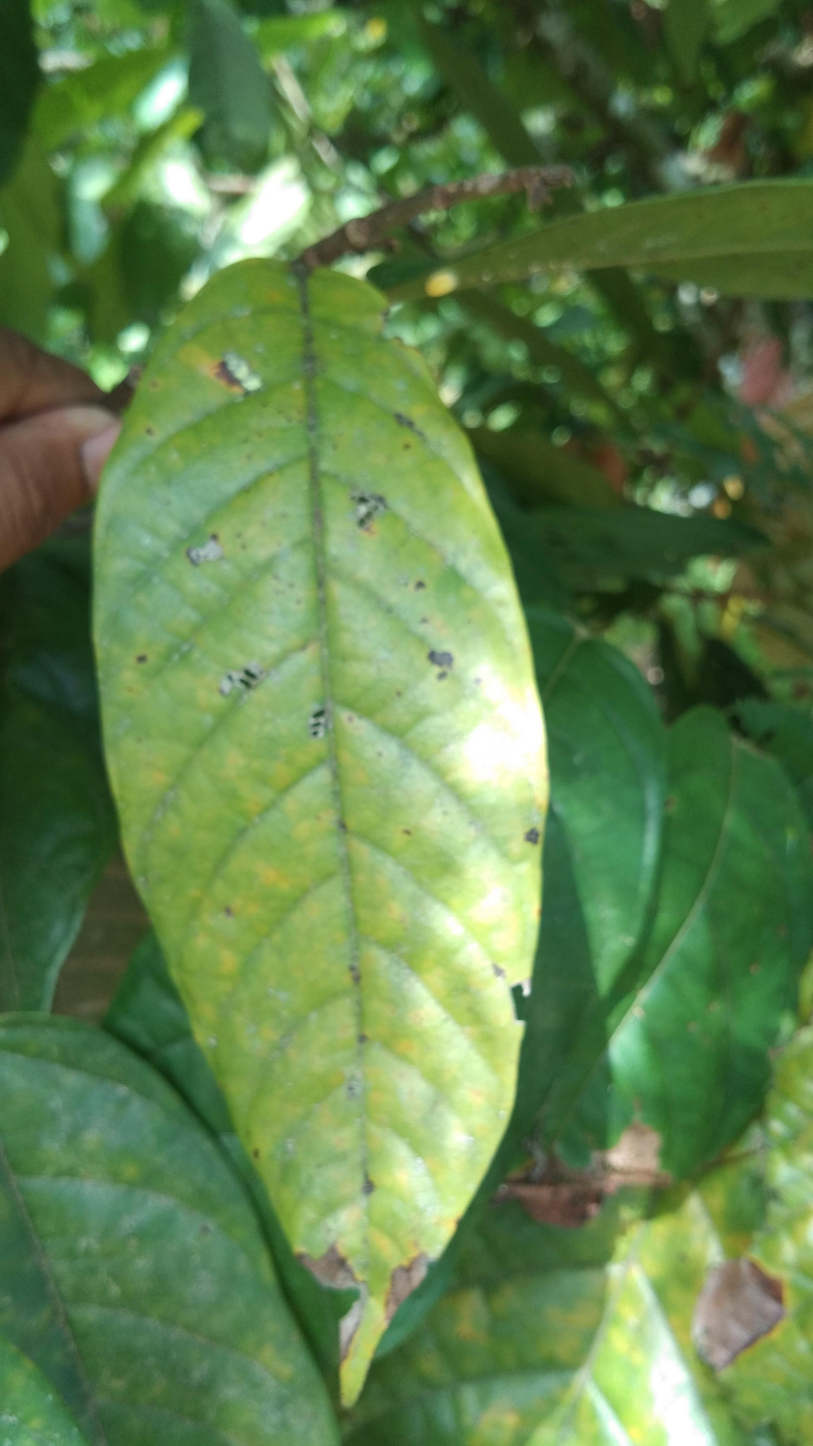deficiencia_potasio: (94, 240, 563, 1425)
